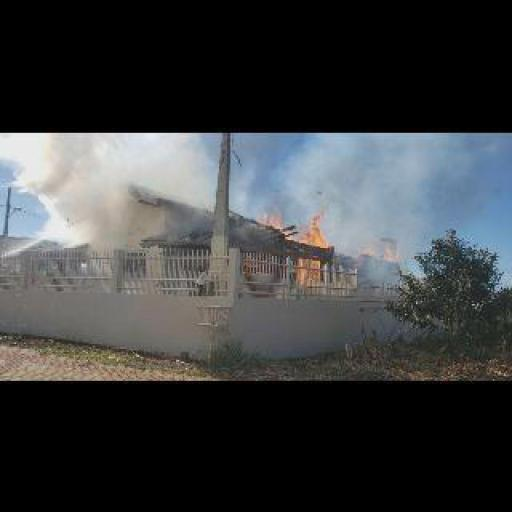smoke: (268, 131, 482, 232), (72, 138, 213, 260), (256, 212, 328, 278), (360, 232, 400, 261)
